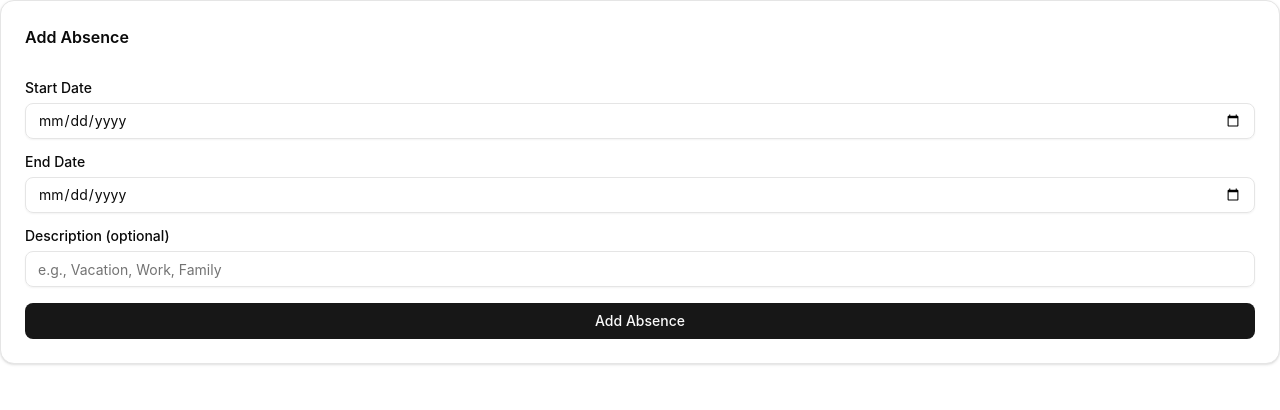
Test: AbsenceForm › shows validation error when end date is empty
Type "2024-06-01" into the date field labelled "Start Date". click: {"x": 640, "y": 121}
box: [25,103,1255,139]
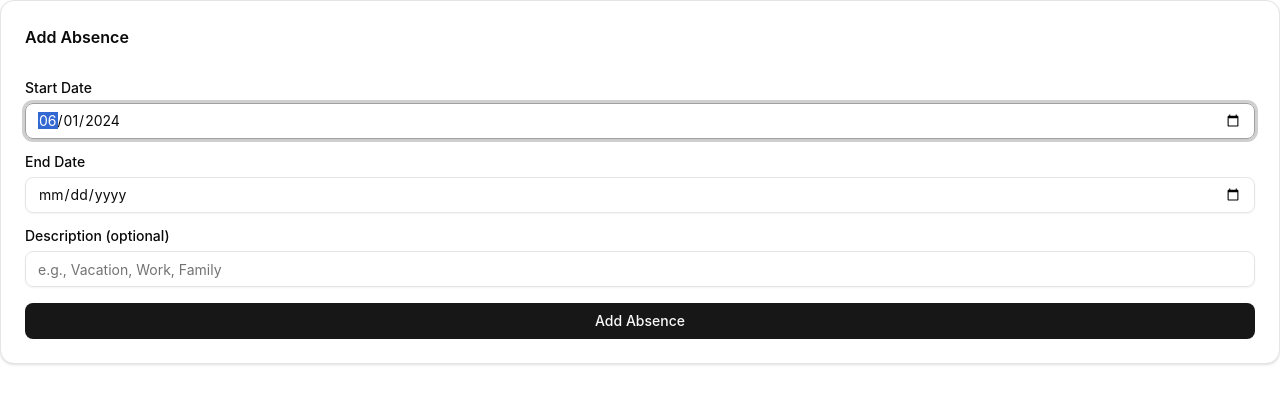
Click the button "Add Absence". click: {"x": 640, "y": 321}
box: [25,303,1255,339]
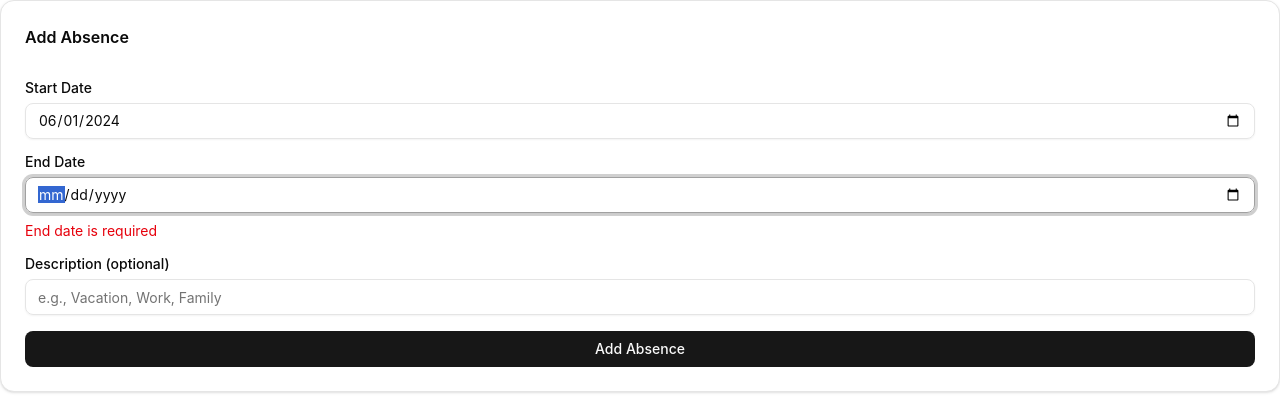
Result: the text "End date is required" is shown at [25,222,157,239]
